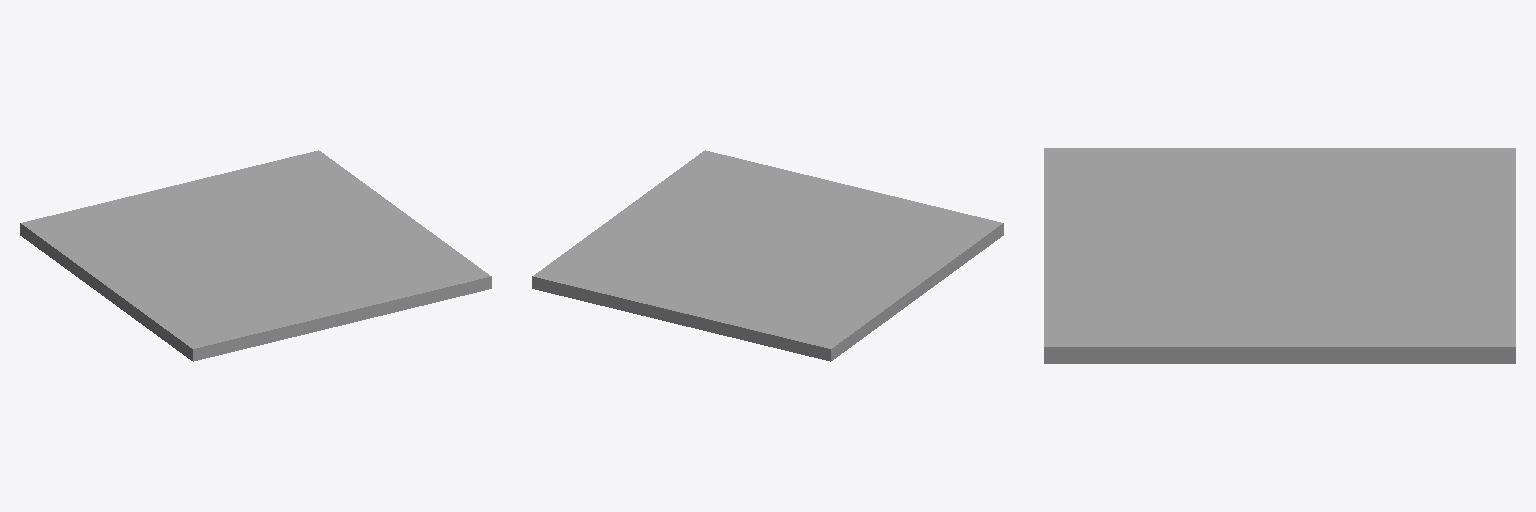
robot.urdf — table:
<?xml version="1.0" ?>
<robot name="table">
    <link name="table_link">
    <contact>
        <lateral_friction value="1"/>
    </contact>
    <inertial>
      <origin rpy="0 0 0" xyz="0 0 0"/>
       <mass value=".0"/>
       <inertia ixx="0" ixy="0" ixz="0" iyy="0" iyz="0" izz="0"/>
    </inertial>
    <visual>
      <origin rpy="0 0 0" xyz="0 0 -0.005"/>
      <geometry>
        <box size="0.25 0.25 0.01"/>
      </geometry>
       <material name="brown">
        <color rgba="0.7 0.7 0.7 0.5"/>
      </material>
    </visual>
    <collision>
      <origin rpy="0 0 0" xyz="0 0 -0.005"/>
      <geometry>
        <box size="0.25 0.25 0.01"/>
      </geometry>
    </collision>
  </link>
</robot>

--- Render facts (derived) ---
3 views of the same robot in one strip: view 1: azimuth 30°, elevation 25°; view 2: azimuth 150°, elevation 25°; view 3: azimuth 270°, elevation 25° (orthographic).
Model table with 1 links and 0 joints (none), rooted at table_link, posed all joints at 0.
Links seen in each view (by area): view 1: table_link; view 2: table_link; view 3: table_link.
Link boxes in pixels (x1,y1,x2,y2): table_link: (20, 150, 491, 361); table_link: (532, 150, 1003, 361); table_link: (1044, 148, 1515, 363).
Size in the robot's own frame: 0.25 by 0.25 by 0.01 metres.
Geometry: primitives only (box / cylinder / sphere), no mesh files.